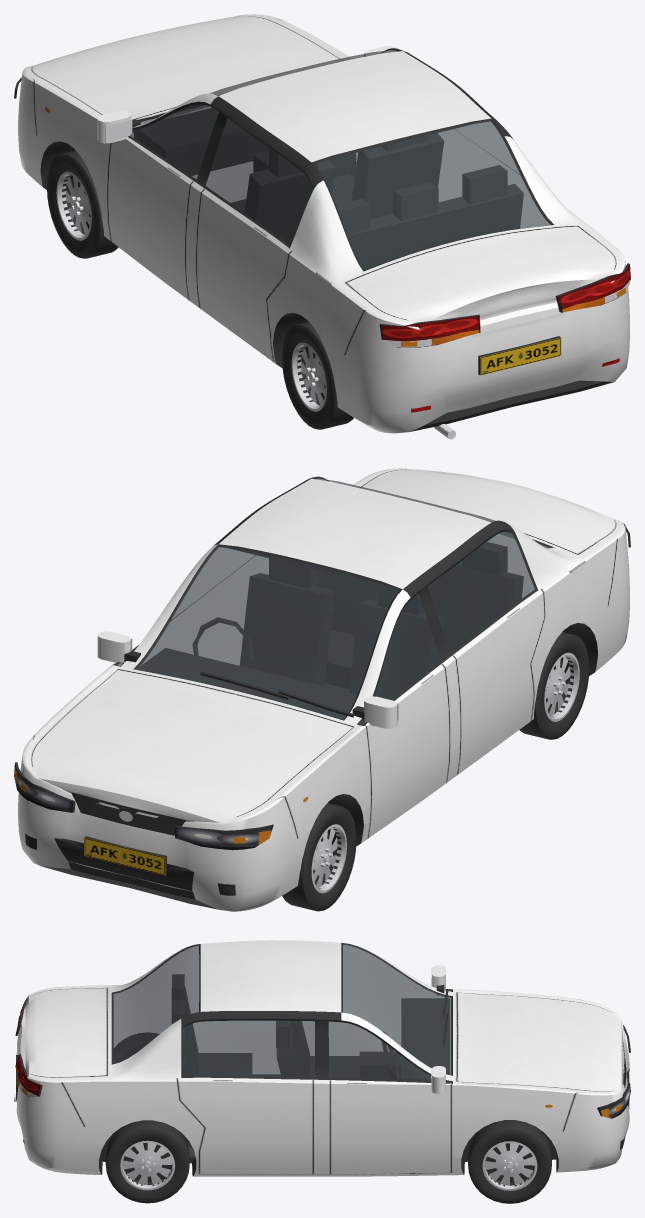
File: sedan_corolla.glb
3 renders of one model, top to bottom at view 1: azimuth 30°, elevation 25°; view 2: azimuth 150°, elevation 25°; view 3: azimuth 270°, elevation 25°, orthographic. The views are drawn at different scales.
Parts seen in each view (by area): view 1: body, wheel_fl_mesh, wheel_rl_mesh; view 2: body, wheel_fl_mesh, wheel_rl_mesh; view 3: body, wheel_fr_mesh, wheel_rr_mesh, wheel_rl_mesh.
Part boxes in pixels (x1,y1,x2,y2): body: (14,14,630,439); wheel_fl_mesh: (47,150,118,258); wheel_rl_mesh: (282,322,353,429); body: (14,468,630,911); wheel_fl_mesh: (282,803,356,911); wheel_rl_mesh: (519,632,589,739); body: (14,940,630,1176); wheel_fr_mesh: (468,1120,551,1203); wheel_rr_mesh: (105,1120,189,1203); wheel_rl_mesh: (114,1032,159,1063).
Size of the model in its own units: 1.91 by 1.46 by 4.43.
11 materials, 5 textured.
